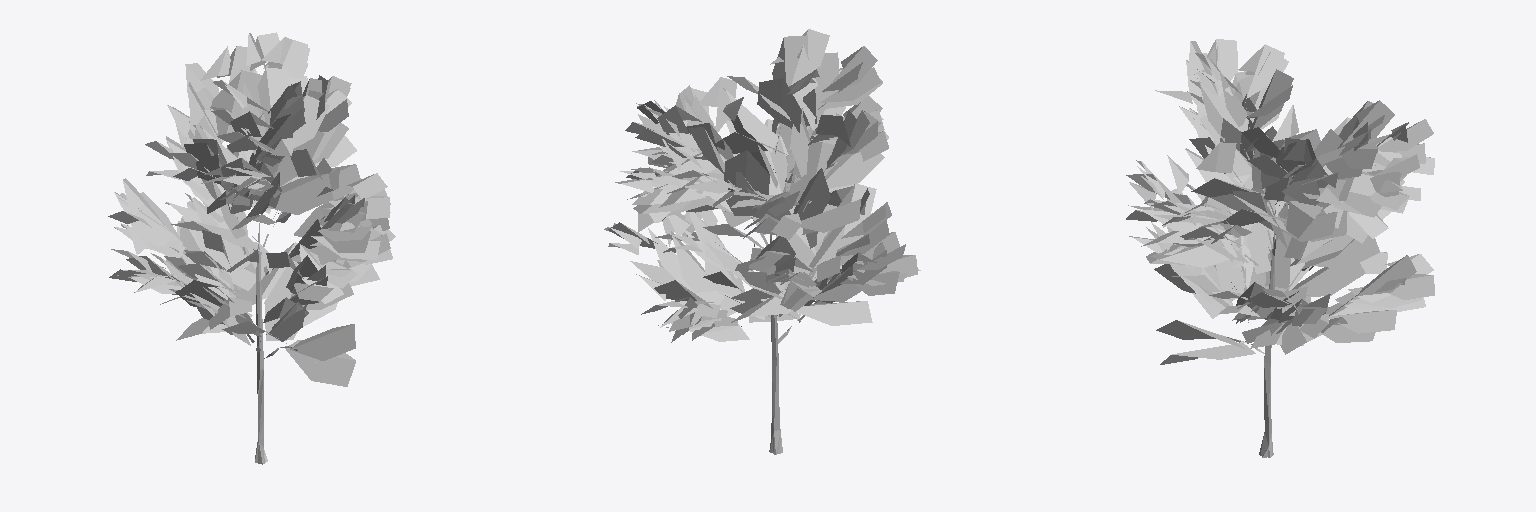
Rendered from Tree_LOD1.obj.
3 renders of one model, left to right at view 1: azimuth 30°, elevation 25°; view 2: azimuth 150°, elevation 25°; view 3: azimuth 270°, elevation 25°, orthographic.
Visible parts, largest first — view 1: Tree_LOD1 Tree; view 2: Tree_LOD1 Tree; view 3: Tree_LOD1 Tree.
Boxes of the visible parts, x1=… form: Tree_LOD1 Tree: x1=108, y1=32, x2=395, y2=464; Tree_LOD1 Tree: x1=604, y1=29, x2=920, y2=454; Tree_LOD1 Tree: x1=1126, y1=39, x2=1434, y2=457.
Bounding box in the file's own units: 560 × 728 × 512.